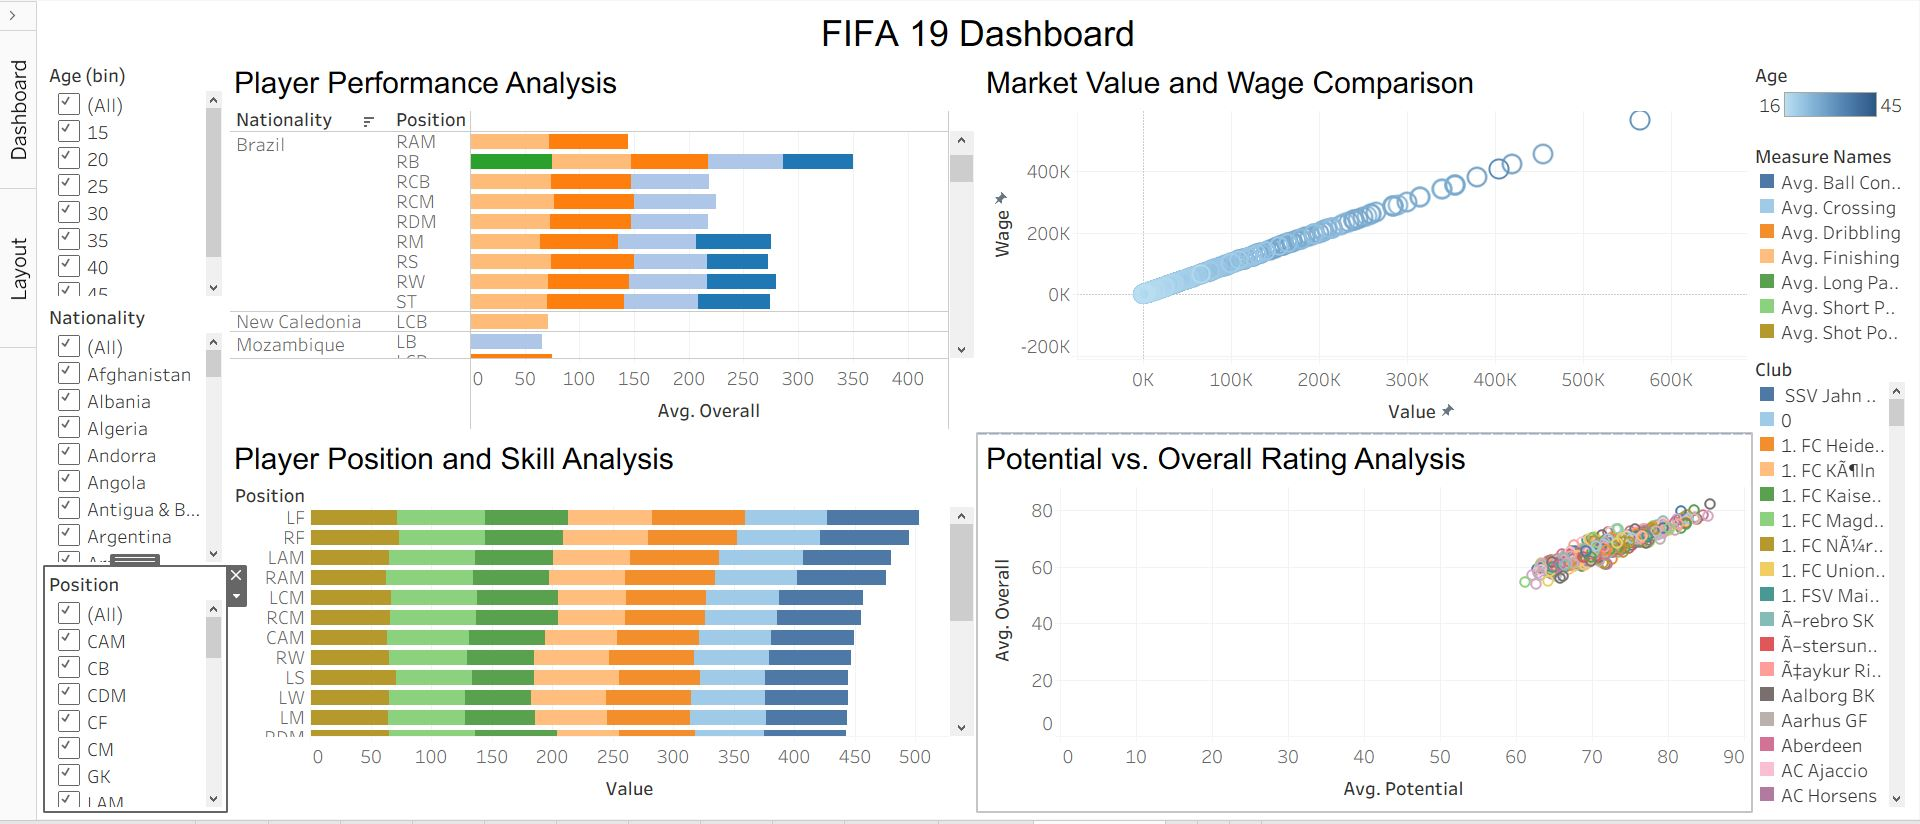

Layout of this report page (visuals, bound fields, positions):
{"tool":"tableau","page":{"name":"Dashboard","canvas":[1000,1000],"units":"permille","ordinal":0},"visuals":[{"type":"title","box":[5,10.6,990,64.6]},{"type":"filter","title":"task 1","param":"[federated.0ns49ie0oyakau1djvygk0yo6n6b].[none:Age (bin):ok]","box":[5,75.2,96.1,294.2]},{"type":"worksheet","title":"task 1","mark":"Automatic","rows":["Nationality","Position"],"cols":["Overall"],"box":[101.1,75.2,398.9,456.5]},{"type":"worksheet","title":"task 2","mark":"Automatic","rows":["Wage"],"cols":["Value"],"box":[500,75.2,395.3,457.1]},{"type":"legend","title":"task 2","param":"[federated.0ns49ie0oyakau1djvygk0yo6n6b].[none:Age:qk]","box":[895.3,75.2,99.8,106.9]},{"type":"legend","title":"task 3","param":"[federated.0ns49ie0oyakau1djvygk0yo6n6b].[:Measure Names]","box":[895.3,182.1,99.8,281]},{"type":"filter","title":"task 1","param":"[federated.0ns49ie0oyakau1djvygk0yo6n6b].[none:Nationality:nk]","box":[5,369.4,96.1,323.2]},{"type":"legend","title":"task 4","param":"[federated.0ns49ie0oyakau1djvygk0yo6n6b].[none:Club:nk]","box":[895.3,463.1,99.8,526.4]},{"type":"worksheet","title":"task 3","mark":"Automatic","rows":["Position"],"box":[101.1,531.6,398.9,457.8]},{"type":"worksheet","title":"task 4","mark":"Automatic","rows":["Overall"],"cols":["Potential"],"box":[500,532.3,395.3,457.2]},{"type":"filter","title":"task 1","param":"[federated.0ns49ie0oyakau1djvygk0yo6n6b].[none:Position:nk]","box":[5,692.6,96.1,296.9]}]}

Visuals, with their boxes on the dashboard's canvas, which has no fixed pixel size, in thousandths of its width and height (x1, y1, x2, y2). These are canvas units, not pixel positions in the 1920x824 screenshot, which may show the page scaled, cropped or inside an application window:
title: x1=5, y1=11, x2=995, y2=75
"task 1" filter: x1=5, y1=75, x2=101, y2=369
"task 1" worksheet: x1=101, y1=75, x2=500, y2=532
"task 2" worksheet: x1=500, y1=75, x2=895, y2=532
"task 2" legend: x1=895, y1=75, x2=995, y2=182
"task 3" legend: x1=895, y1=182, x2=995, y2=463
"task 1" filter: x1=5, y1=369, x2=101, y2=693
"task 4" legend: x1=895, y1=463, x2=995, y2=990
"task 3" worksheet: x1=101, y1=532, x2=500, y2=989
"task 4" worksheet: x1=500, y1=532, x2=895, y2=990
"task 1" filter: x1=5, y1=693, x2=101, y2=990
